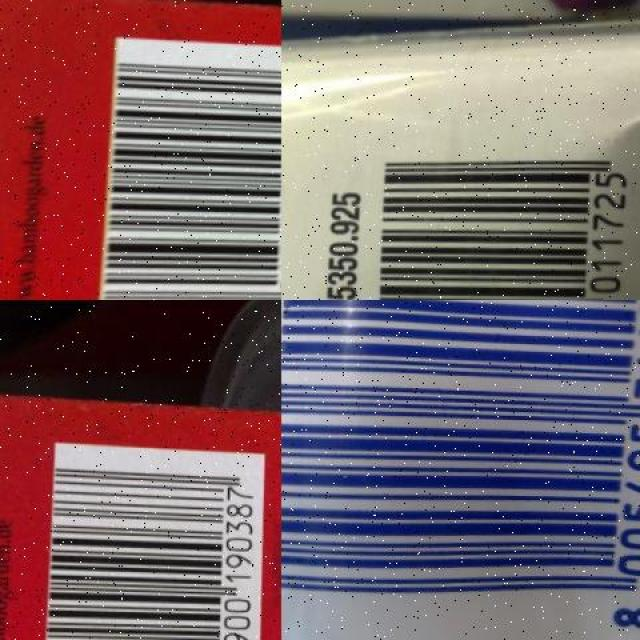Barcode: (281, 300, 640, 640), (357, 127, 640, 300), (100, 36, 281, 300), (42, 440, 270, 640)
